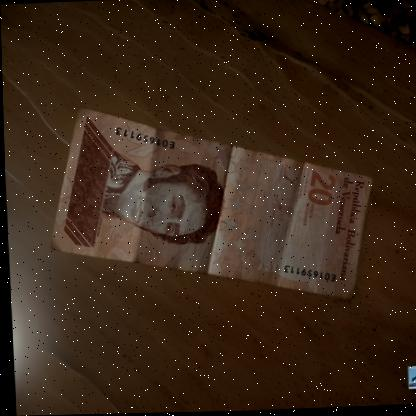twenty-front-vef: (105, 34, 320, 368)
